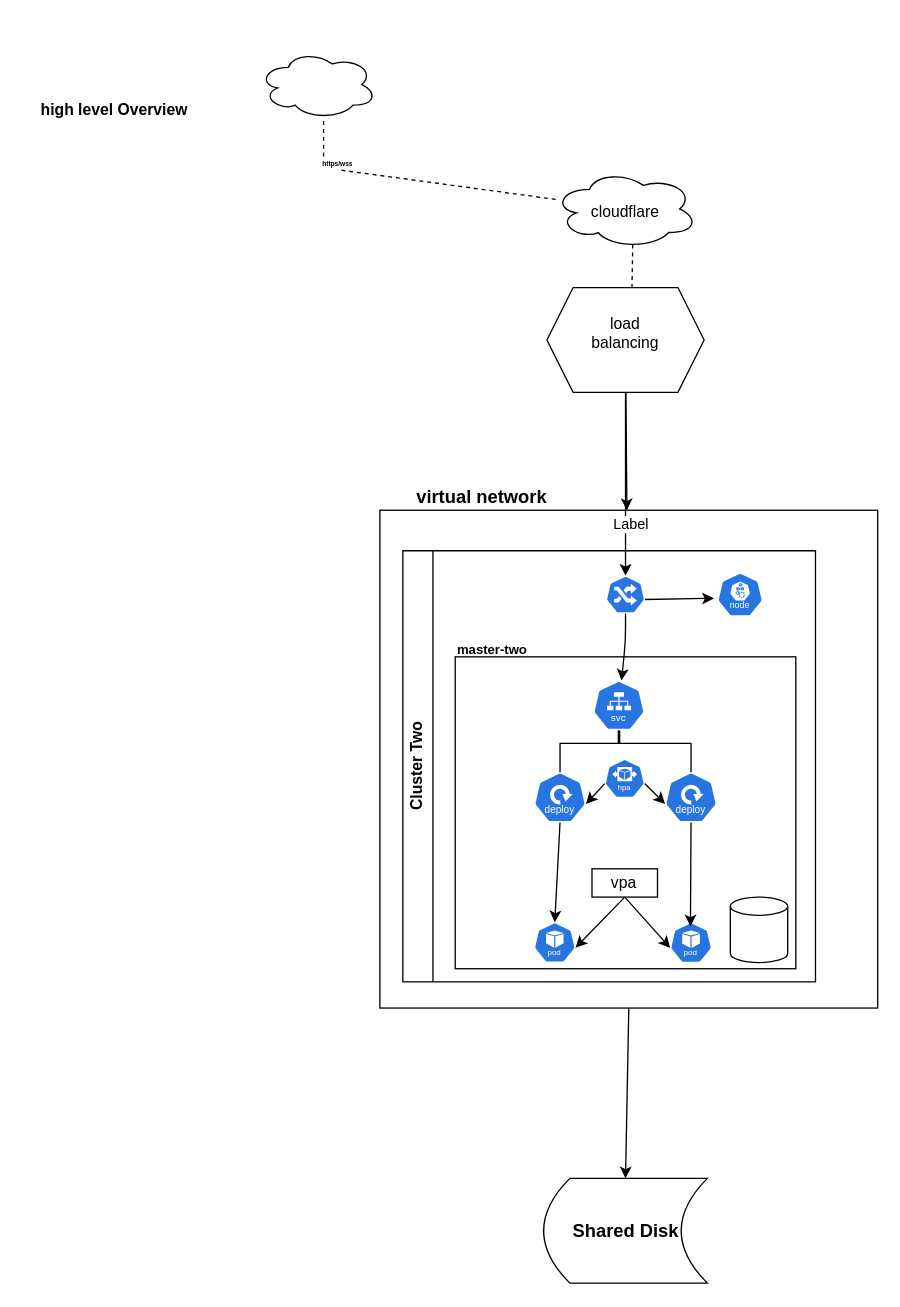
The diagram is 900 pixels wide and 1307 high, and some of its shapes have lost their labels. Each missing label, with the centre of its shape:
Customer: point 317,84
DB: point 758,929
